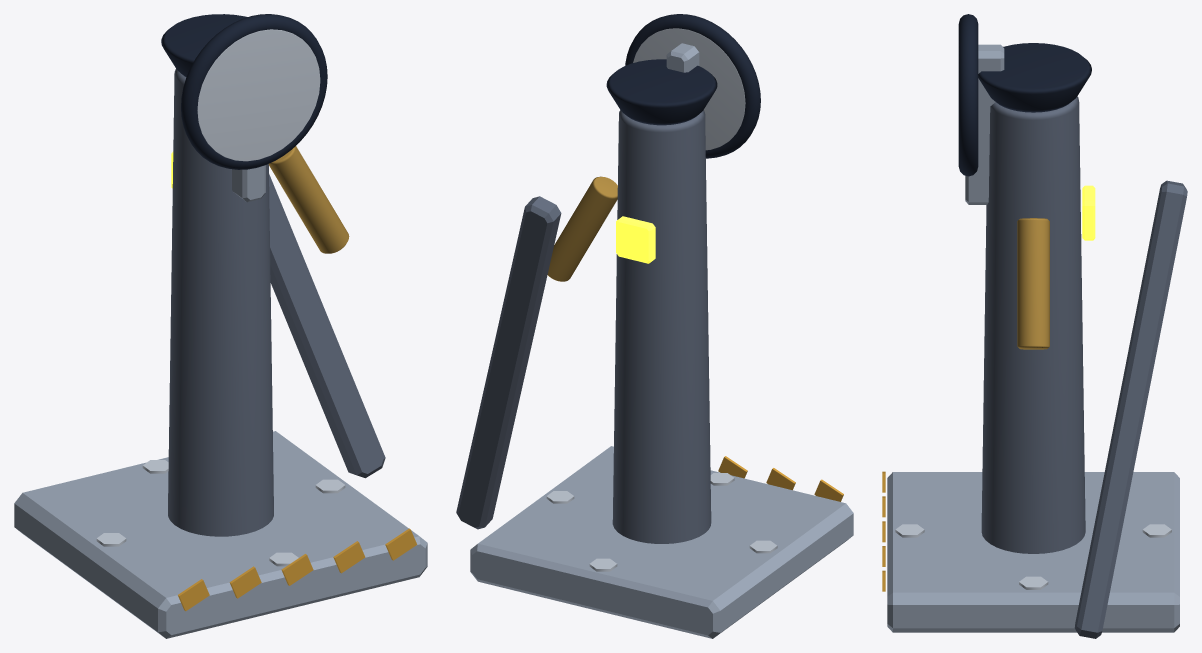
File: shared_zipline_anchor.glb
3 views of the same model, side by side, from view 1: azimuth 30°, elevation 25°; view 2: azimuth 150°, elevation 25°; view 3: azimuth 270°, elevation 25° (orthographic). The views are drawn at different scales.
Parts seen in each view (by area): view 1: zip_base, zip_post, zip_sheave_wheel, zip_brace, zip_sheave_rim, zip_turnbuckle, zip_hazard, zip_post_cap, zip_base_bolts, zip_sheave_fork; view 2: zip_post, zip_base, zip_brace, zip_post_cap, zip_sheave_wheel, zip_sheave_rim, zip_turnbuckle, zip_lamp, zip_base_bolts, zip_hazard, zip_sheave_fork; view 3: zip_post, zip_base, zip_brace, zip_post_cap, zip_turnbuckle, zip_sheave_rim, zip_sheave_fork, zip_base_bolts, zip_lamp.
Boxes of the visible parts, box(x1,y1,x2,y2) form: zip_base: box(14, 431, 427, 638); zip_post: box(168, 69, 273, 536); zip_sheave_wheel: box(197, 29, 320, 161); zip_brace: box(269, 174, 385, 478); zip_sheave_rim: box(181, 14, 327, 169); zip_turnbuckle: box(268, 146, 349, 253); zip_hazard: box(178, 528, 417, 611); zip_post_cap: box(161, 14, 247, 77); zip_base_bolts: box(96, 460, 345, 566); zip_sheave_fork: box(232, 165, 265, 202); zip_post: box(612, 110, 711, 543); zip_base: box(470, 446, 853, 638); zip_brace: box(456, 196, 561, 529); zip_post_cap: box(606, 59, 717, 125); zip_sheave_wheel: box(633, 28, 745, 150); zip_sheave_rim: box(625, 14, 760, 158); zip_turnbuckle: box(547, 176, 617, 281); zip_lamp: box(616, 216, 655, 263); zip_base_bolts: box(546, 473, 777, 571); zip_hazard: box(718, 456, 843, 501); zip_sheave_fork: box(666, 43, 699, 72); zip_post: box(981, 96, 1085, 553); zip_base: box(887, 472, 1179, 632); zip_brace: box(1074, 180, 1187, 638); zip_post_cap: box(978, 43, 1091, 112); zip_turnbuckle: box(1017, 218, 1049, 349); zip_sheave_rim: box(958, 14, 978, 176); zip_sheave_fork: box(965, 44, 1004, 204); zip_base_bolts: box(895, 524, 1171, 589); zip_lamp: box(1082, 185, 1095, 240).
Size of the model in its own units: 1.12 by 1.87 by 0.9386.
